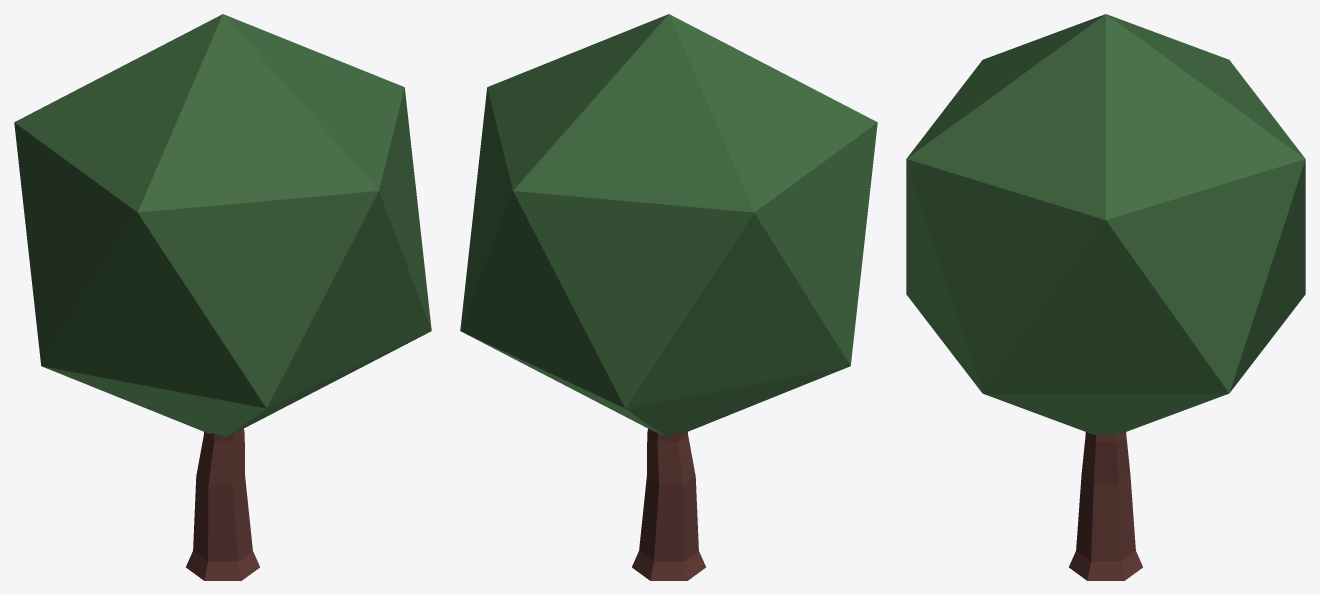
Rendered from STree.fbx.
The picture shows the model from 3 angles, left to right: view 1: azimuth 30°, elevation 25°; view 2: azimuth 150°, elevation 25°; view 3: azimuth 270°, elevation 25°; orthographic projection.
Parts seen in each view (by area): view 1: Icosphere.033; view 2: Icosphere.033; view 3: Icosphere.033.
Boxes of the visible parts, left/top/right/bottom form: Icosphere.033: left=14, top=14, right=431, bottom=580; Icosphere.033: left=460, top=14, right=877, bottom=580; Icosphere.033: left=906, top=14, right=1305, bottom=580.
Bounding box in the file's own units: 1641 × 2387 × 1561.
